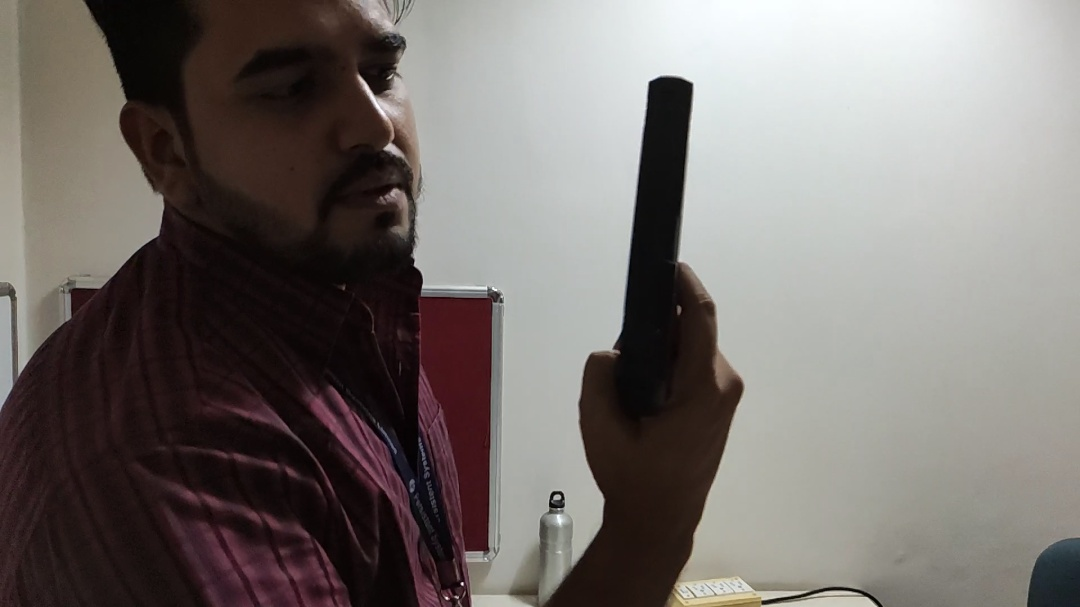gun: (574, 68, 724, 420)
